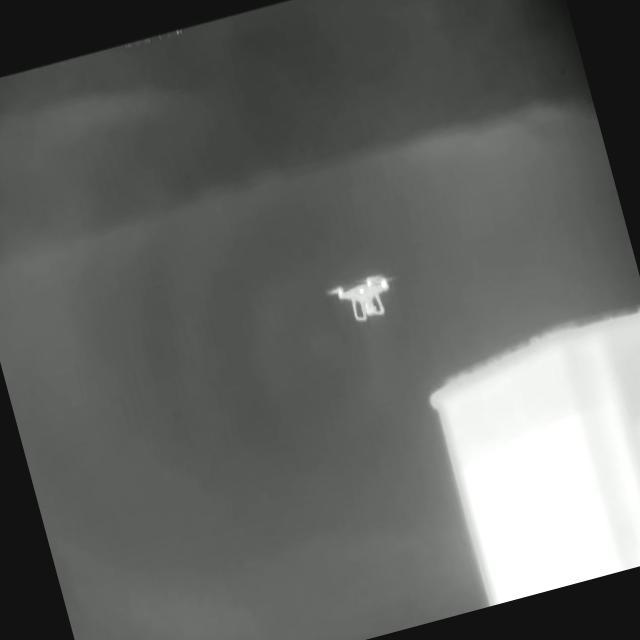DRONE: (325, 271, 396, 322)
